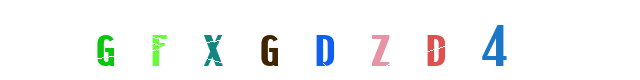4: (382, 0, 462, 80)
D: (280, 0, 360, 80), (377, 0, 457, 80)
F: (109, 0, 189, 80)
G: (65, 0, 145, 80), (229, 0, 309, 80)
X: (173, 0, 253, 80)
Z: (321, 0, 401, 80)
